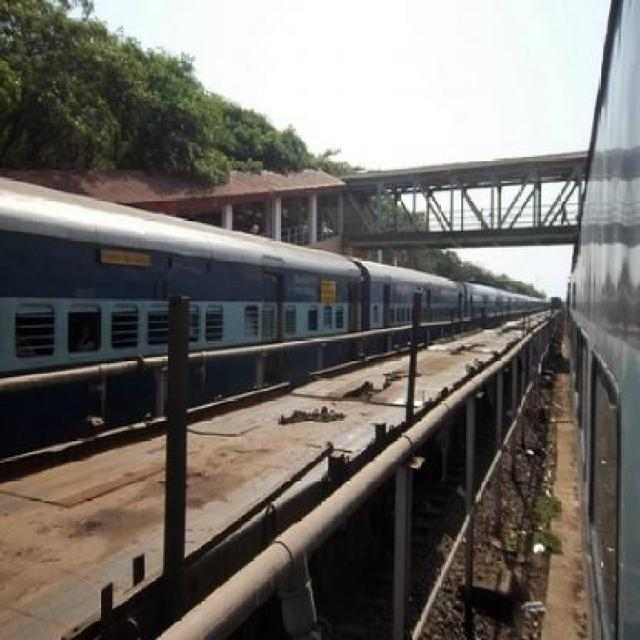garbage: (519, 440, 559, 496), (543, 357, 560, 444), (517, 588, 550, 622), (529, 540, 546, 558)
